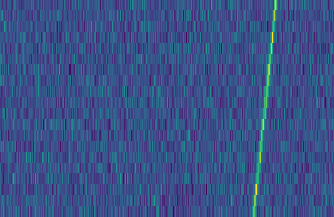signal: (250, 0, 283, 217)
